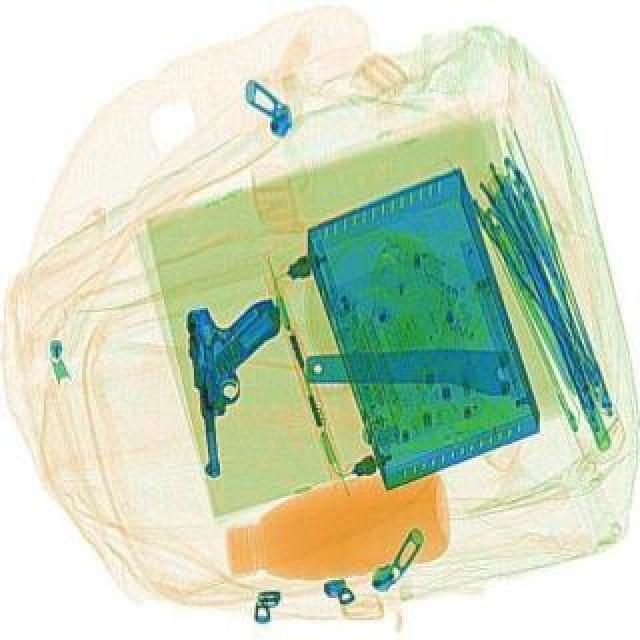gun: (180, 294, 296, 476)
